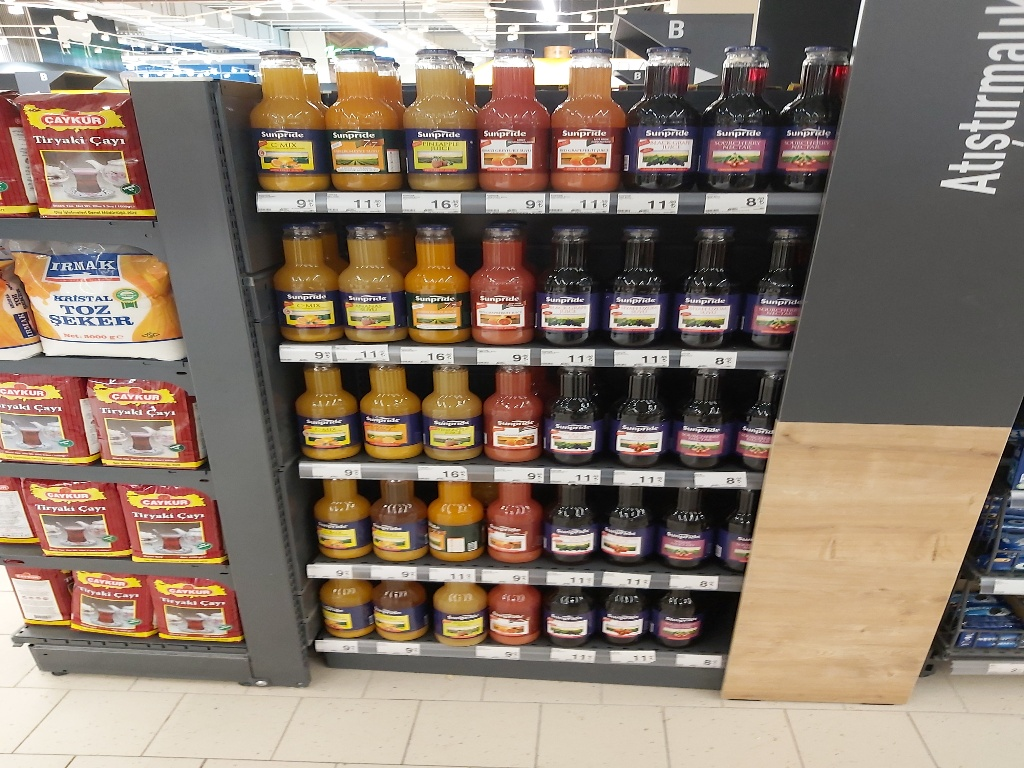urun: (13, 239, 187, 364), (15, 92, 150, 223), (84, 365, 202, 475), (390, 38, 475, 187), (317, 45, 402, 193), (463, 41, 548, 189), (540, 41, 625, 189), (698, 42, 782, 191), (617, 41, 701, 189), (463, 207, 540, 351), (115, 475, 223, 577), (778, 41, 855, 184), (329, 210, 406, 353), (397, 209, 474, 352), (531, 209, 608, 352), (600, 209, 677, 352), (676, 206, 753, 349), (737, 206, 814, 349), (268, 206, 344, 349), (14, 475, 129, 563), (1, 365, 91, 471), (291, 355, 358, 470), (417, 358, 483, 462), (609, 364, 675, 467), (352, 356, 417, 460), (479, 362, 544, 466), (540, 366, 605, 470), (671, 366, 736, 470), (64, 567, 151, 644), (150, 568, 237, 645), (422, 476, 481, 570), (599, 477, 658, 571), (737, 367, 787, 477), (303, 474, 362, 567), (486, 475, 545, 568), (545, 475, 604, 568), (654, 480, 713, 573), (364, 468, 422, 562), (319, 570, 374, 643), (717, 484, 759, 575), (650, 591, 712, 652), (593, 582, 654, 643), (481, 580, 543, 640), (375, 577, 436, 637), (428, 579, 489, 639), (539, 585, 600, 645)
urun2: (241, 44, 325, 192)
